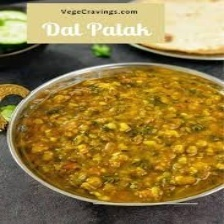roti: (132, 0, 224, 59)
